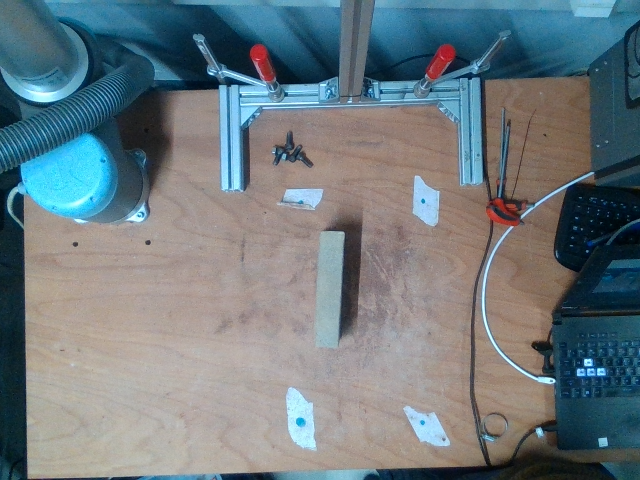brick-side: (316, 233, 341, 344)
